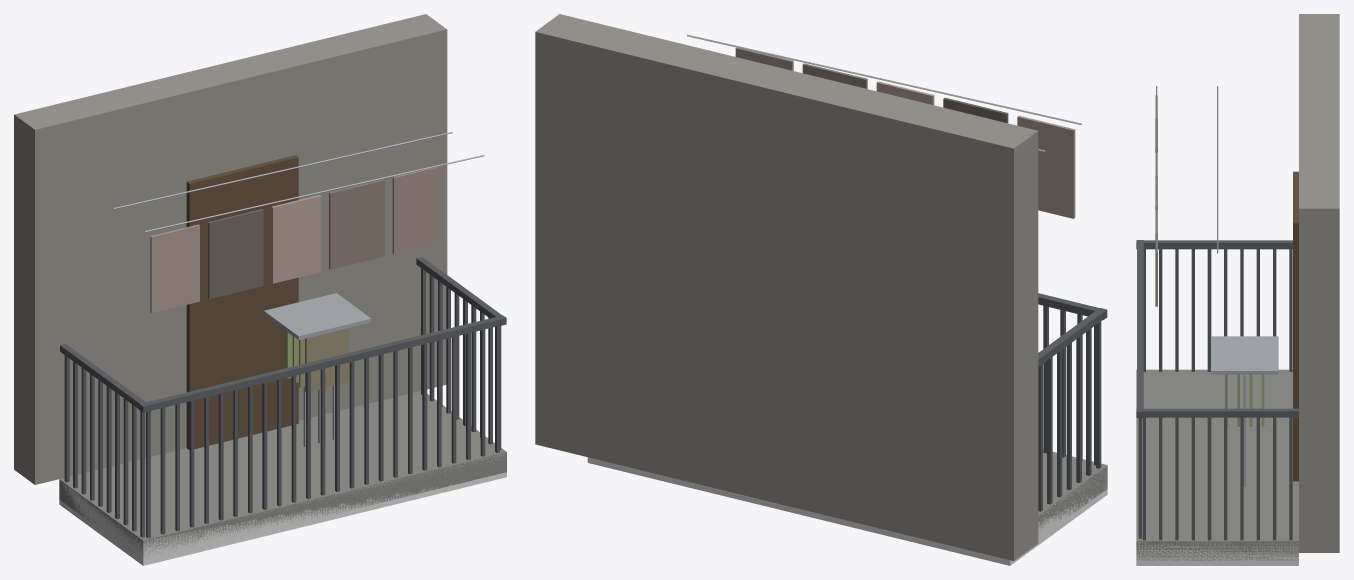
Rendered from balcony_laundry.glb.
The picture shows the model from 3 angles, left to right: view 1: azimuth 30°, elevation 25°; view 2: azimuth 150°, elevation 25°; view 3: azimuth 270°, elevation 25°; orthographic projection. The views are drawn at different scales.
Visible parts, largest first — view 1: wall, slab, door_closed_panel, balcony_laundry-col, cloth.003, cloth.001, cloth.002, cloth.004, cloth, rail_top, rack_top, rack_cloth (+41 smaller); view 2: wall, balcony_laundry-col, cloth, slab, rope, rail_top_side, bar_side.010, bar_side.016, bar_side.018, bar_side.008, bar_side.014, bar_side.012 (+4 smaller); view 3: slab, wall, balcony_laundry-col, rack_top, door_closed_panel, rail_top_side.001, rail_top_side, rail_top, bar_side.011, bar_side.010, bar_side.001, bar_side.007 (+20 smaller).
Boxes of the visible parts, bbox=[...] form: wall: bbox=[14, 14, 447, 484]; slab: bbox=[59, 391, 506, 555]; door_closed_panel: bbox=[186, 155, 298, 449]; balcony_laundry-col: bbox=[59, 452, 506, 565]; cloth.003: bbox=[329, 179, 384, 269]; cloth.001: bbox=[208, 209, 263, 299]; cloth.002: bbox=[271, 195, 321, 283]; cloth.004: bbox=[392, 166, 442, 253]; cloth: bbox=[150, 224, 199, 313]; rail_top: bbox=[139, 315, 506, 412]; rack_top: bbox=[263, 293, 371, 339]; rack_cloth: bbox=[305, 328, 348, 391]; wall: bbox=[535, 14, 1038, 560]; balcony_laundry-col: bbox=[587, 457, 1107, 565]; cloth: bbox=[1017, 115, 1075, 218]; slab: bbox=[1038, 449, 1107, 528]; rope: bbox=[687, 34, 1081, 124]; rail_top_side: bbox=[1038, 308, 1106, 366]; bar_side.010: bbox=[1057, 350, 1062, 497]; bar_side.016: bbox=[1086, 328, 1091, 475]; bar_side.018: bbox=[1096, 321, 1101, 468]; bar_side.008: bbox=[1047, 357, 1052, 504]; bar_side.014: bbox=[1076, 335, 1081, 482]; bar_side.012: bbox=[1066, 343, 1071, 489]; slab: bbox=[1136, 369, 1298, 560]; wall: bbox=[1299, 14, 1339, 552]; balcony_laundry-col: bbox=[1136, 541, 1298, 565]; rack_top: bbox=[1211, 336, 1278, 374]; door_closed_panel: bbox=[1293, 171, 1298, 481]; rail_top_side.001: bbox=[1136, 408, 1298, 417]; rail_top_side: bbox=[1136, 240, 1292, 249]; rail_top: bbox=[1137, 240, 1143, 417]; bar_side.011: bbox=[1207, 417, 1211, 540]; bar_side.010: bbox=[1207, 249, 1211, 371]; bar_side.001: bbox=[1289, 417, 1292, 540]; bar_side.007: bbox=[1240, 417, 1243, 540].
Size of the model in its own units: 3.4 by 3 by 1.5.
